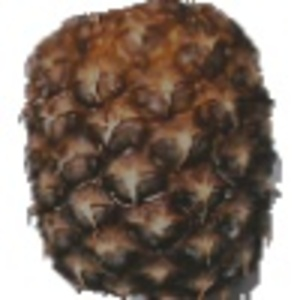abacaxi: (14, 3, 288, 297)
